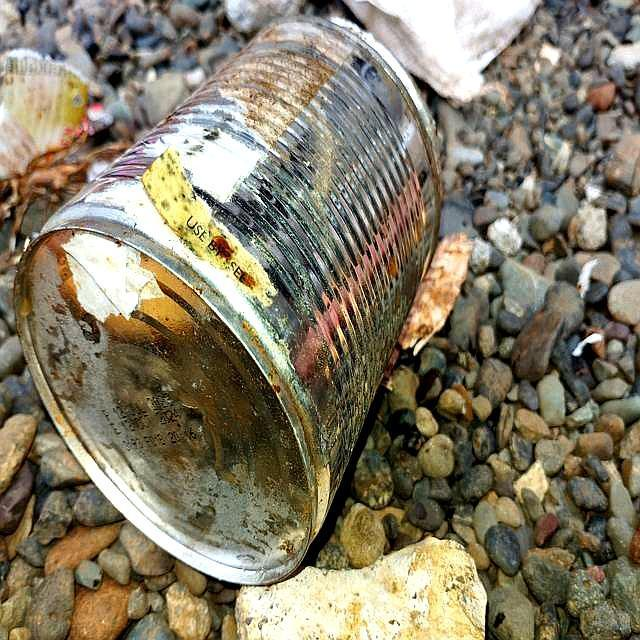Non-biodegradable: (11, 15, 448, 587)
